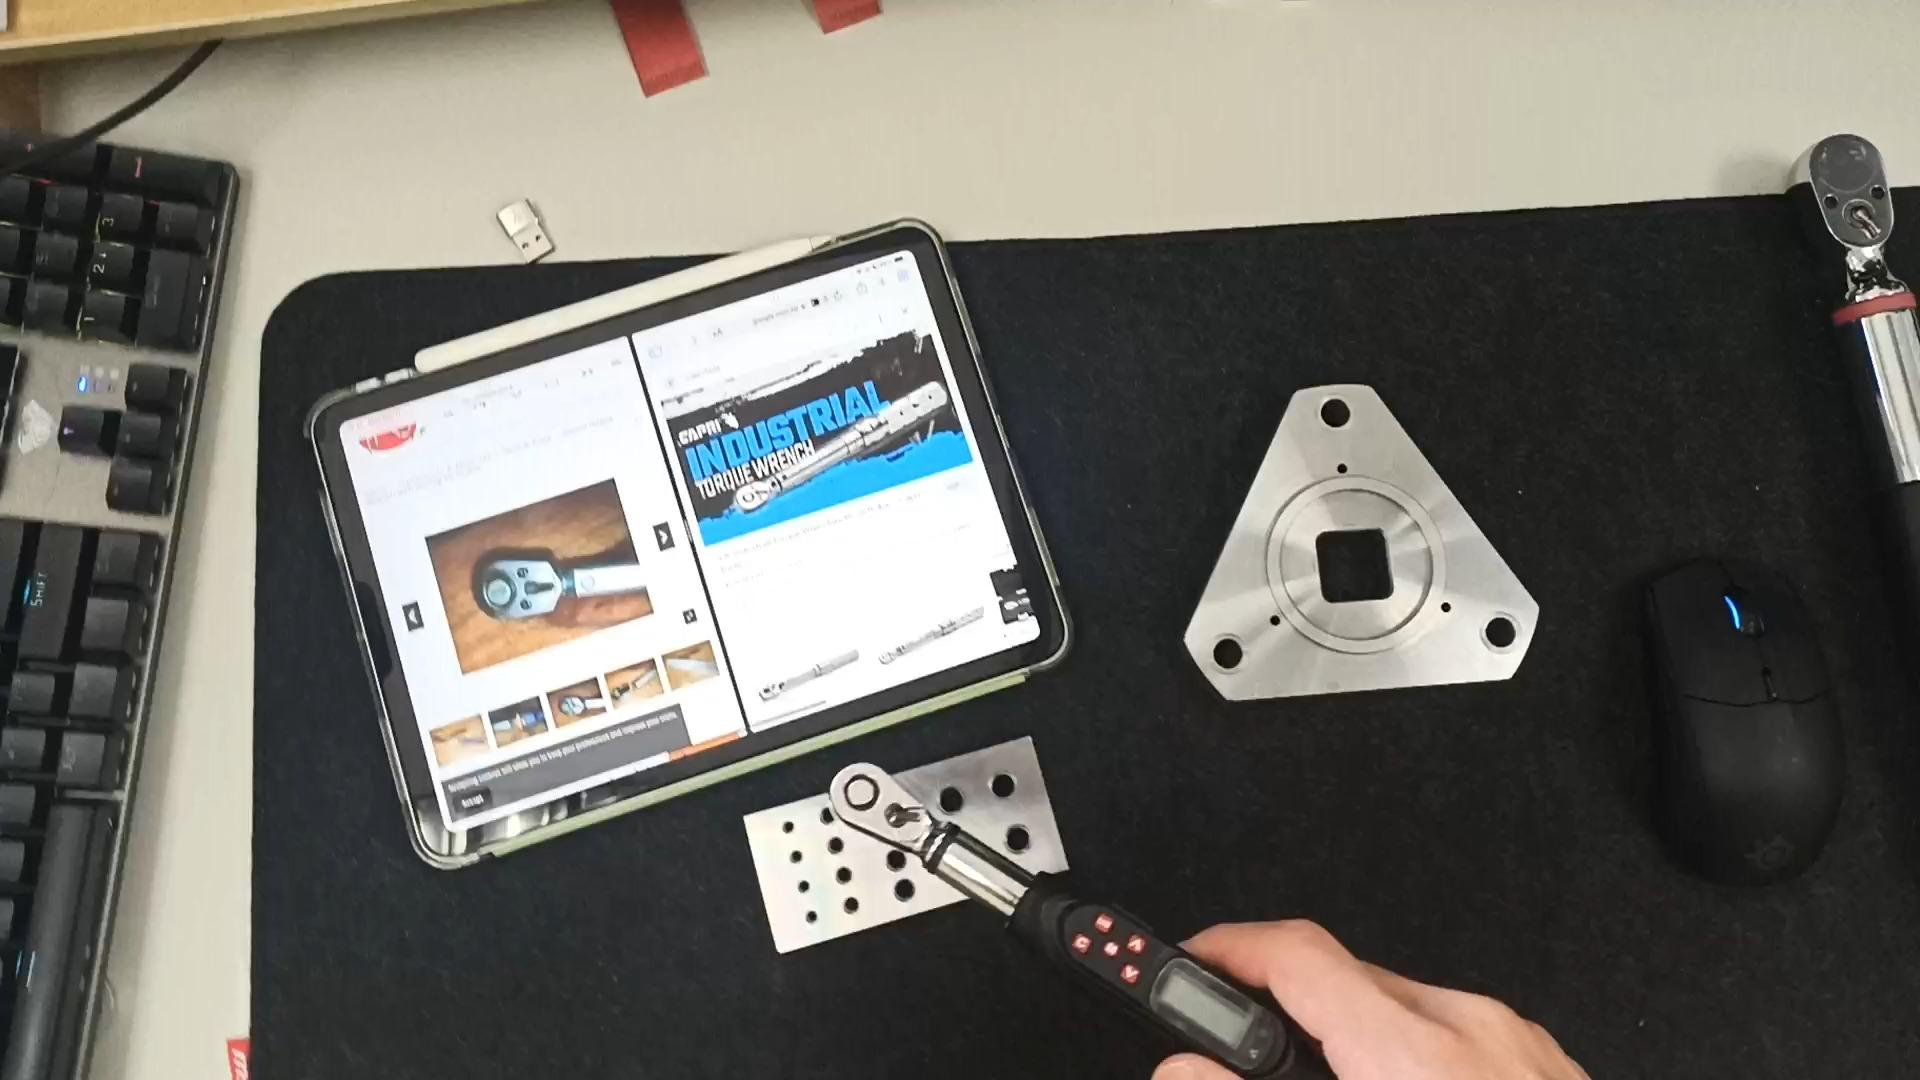Tool: (832, 764, 939, 847), (468, 556, 564, 621), (733, 480, 775, 513)
hole: (989, 819, 1052, 861), (1470, 618, 1530, 662), (1296, 398, 1356, 439), (1197, 642, 1250, 684), (977, 771, 1036, 808), (922, 785, 980, 822), (881, 851, 926, 878), (889, 880, 931, 906), (822, 839, 858, 860), (775, 818, 810, 837), (829, 870, 864, 890), (836, 899, 869, 919), (783, 851, 816, 869), (798, 911, 829, 928), (791, 880, 823, 897), (816, 808, 839, 832)
